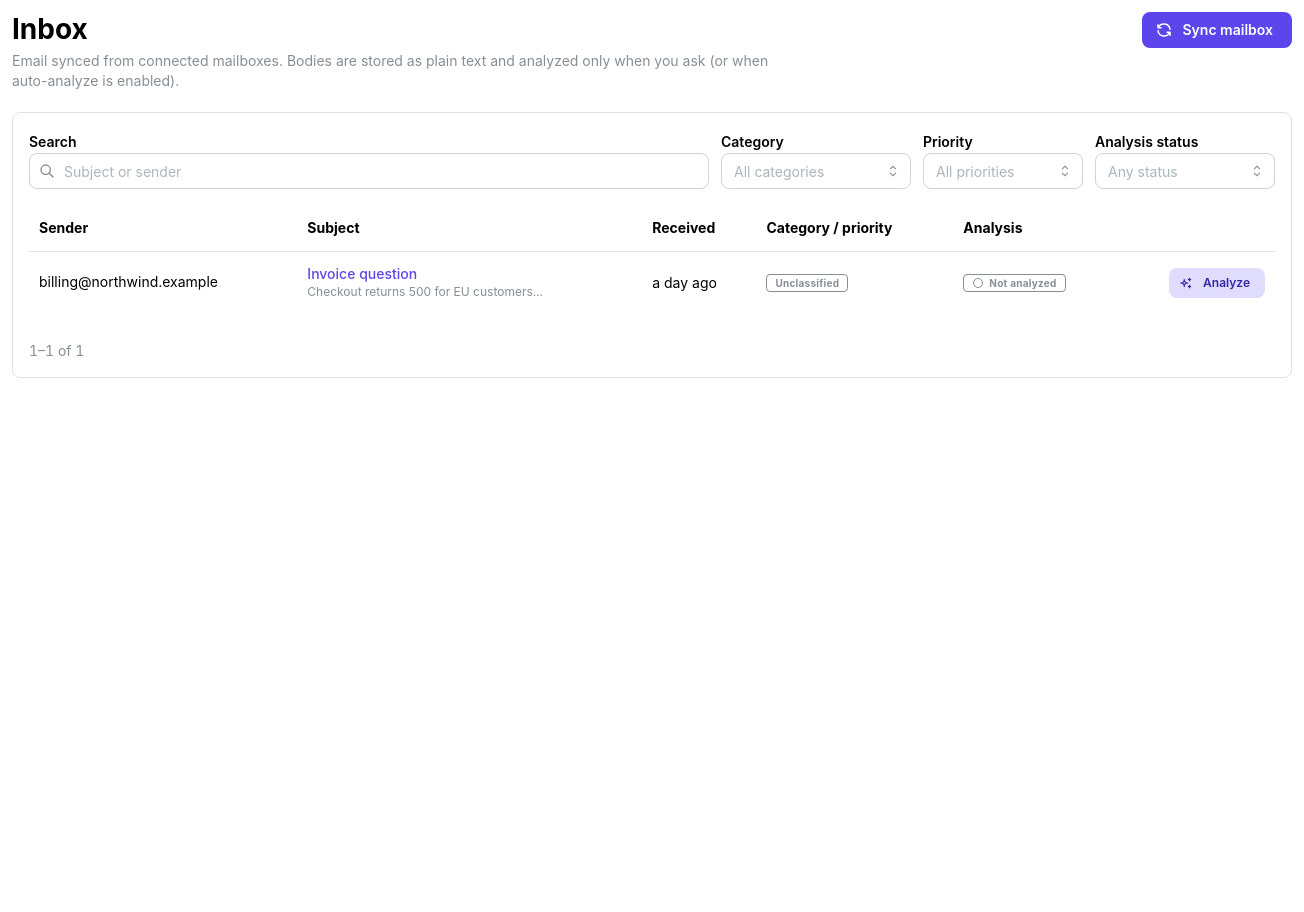
Scenario: <InboxPage> analyze › shows an info toast when the analysis is already running
Click the button with aria-label "Analyze “Invoice question”".
click(1217, 283)  # box [1169,268,1265,298]
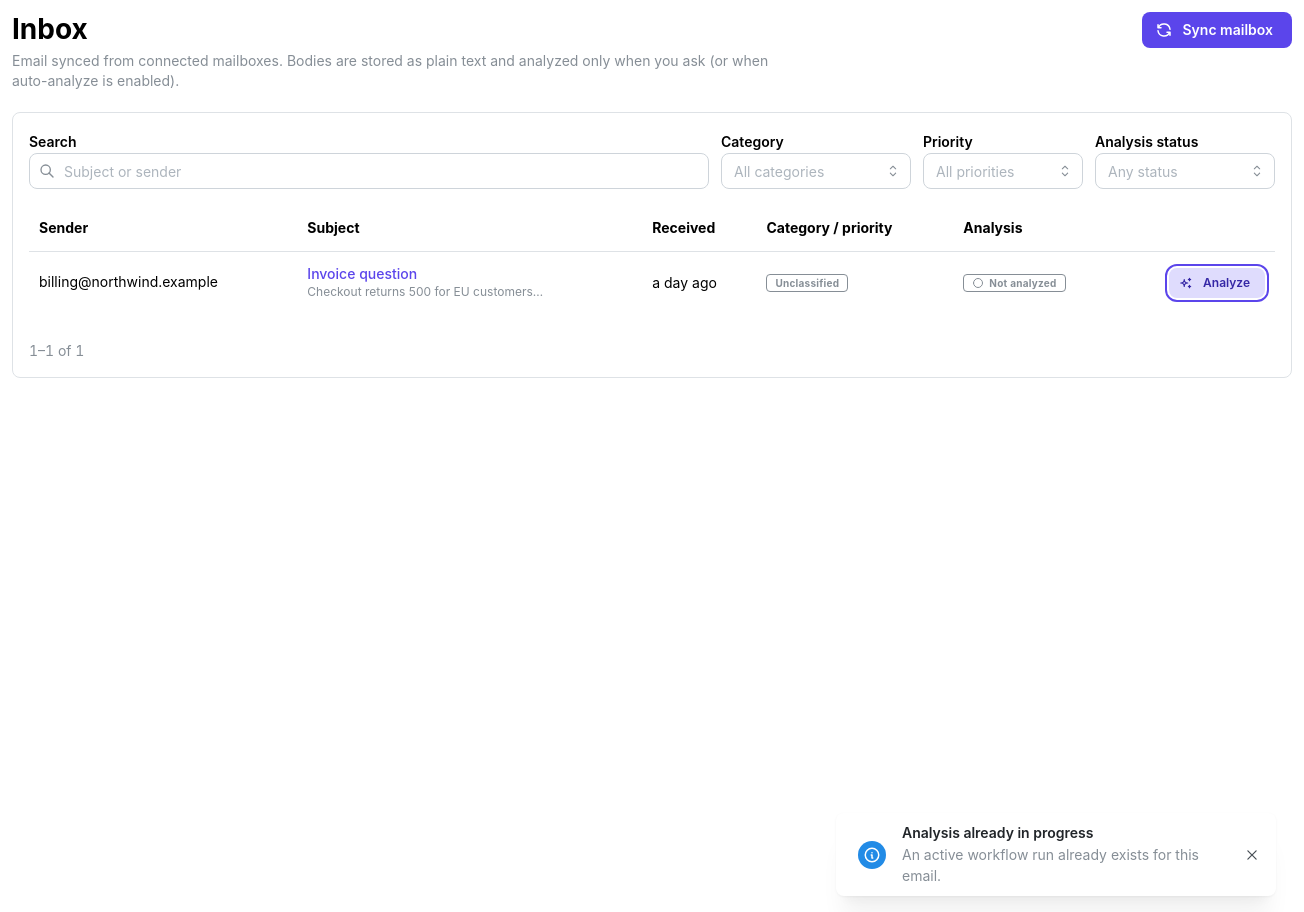
Now the text "Analysis already in progress" is shown, box [902,824,1093,841]
